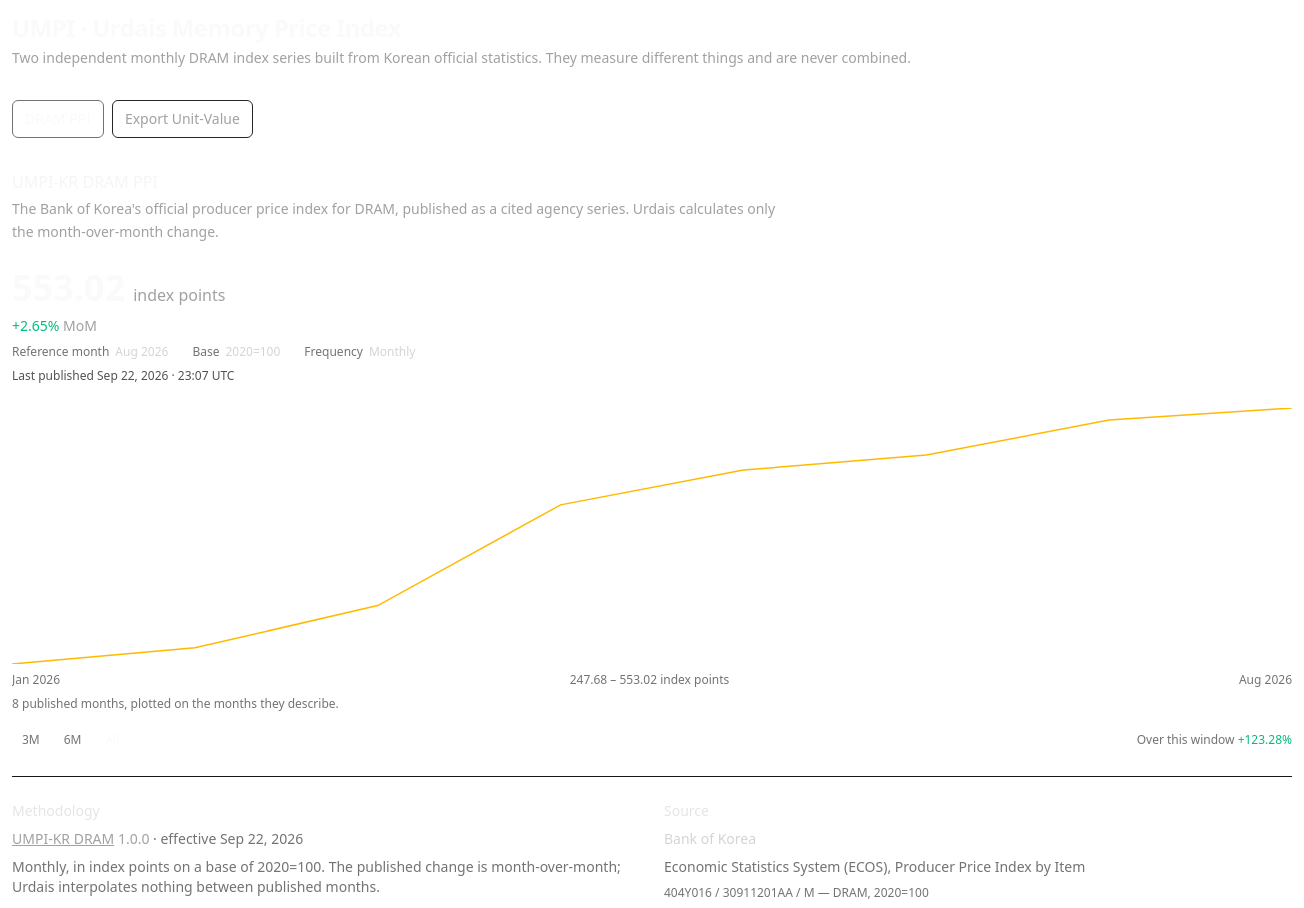
Test: two series and no composite › switches the whole semantic context when the series changes
Click the tab "Export Unit-Value" at (182, 119), box [112,100,253,138]
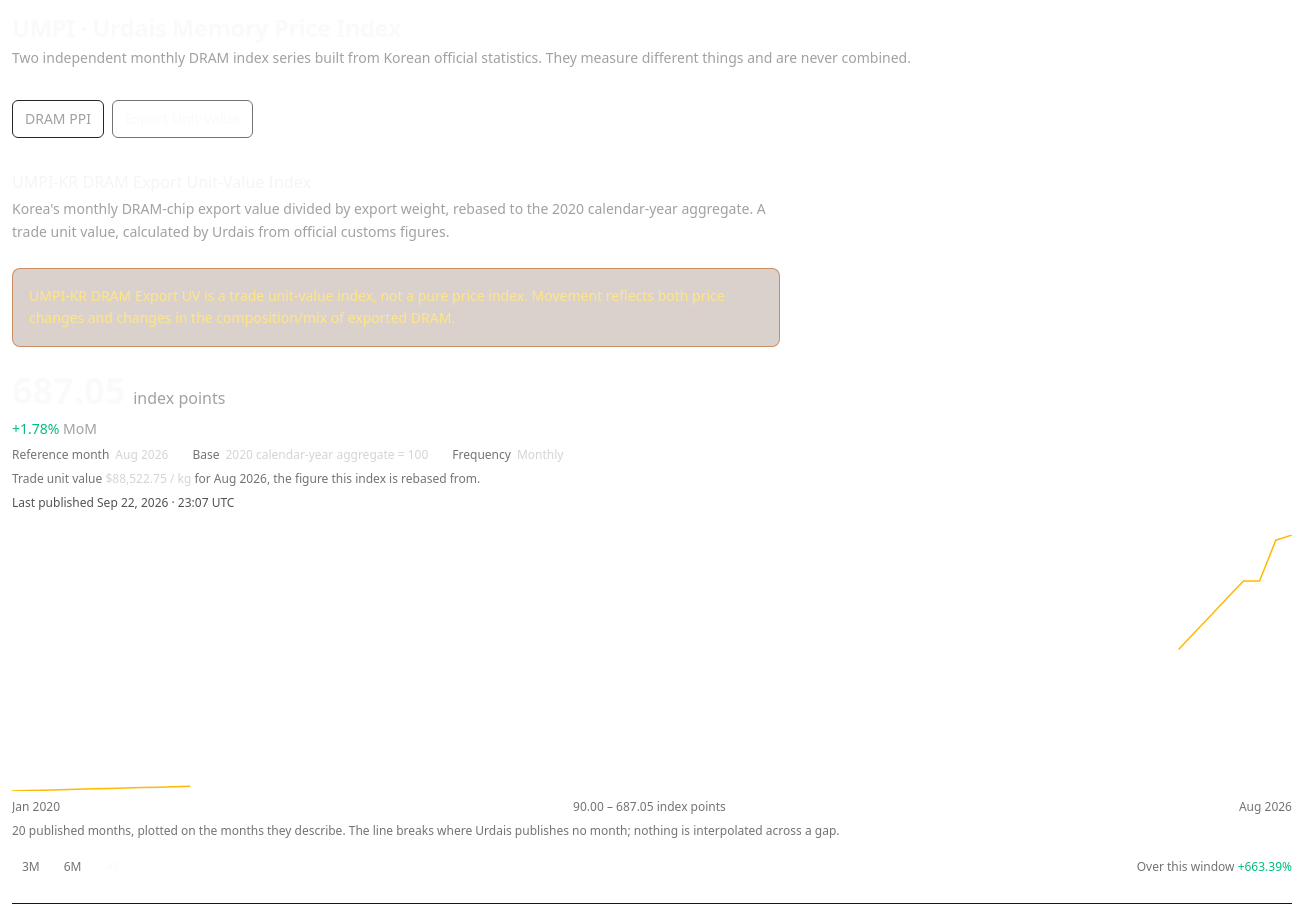
Expected: the text "2020 calendar-year aggregate = 100" is shown, [225,447,428,463]
Expected: the text "553.02" is gone
Expected: the text "Bank of Korea" is gone
